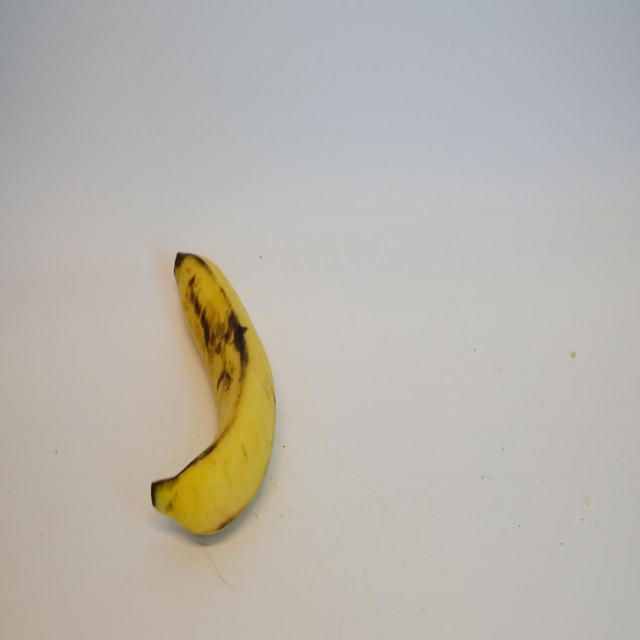banana: (144, 206, 278, 548)
